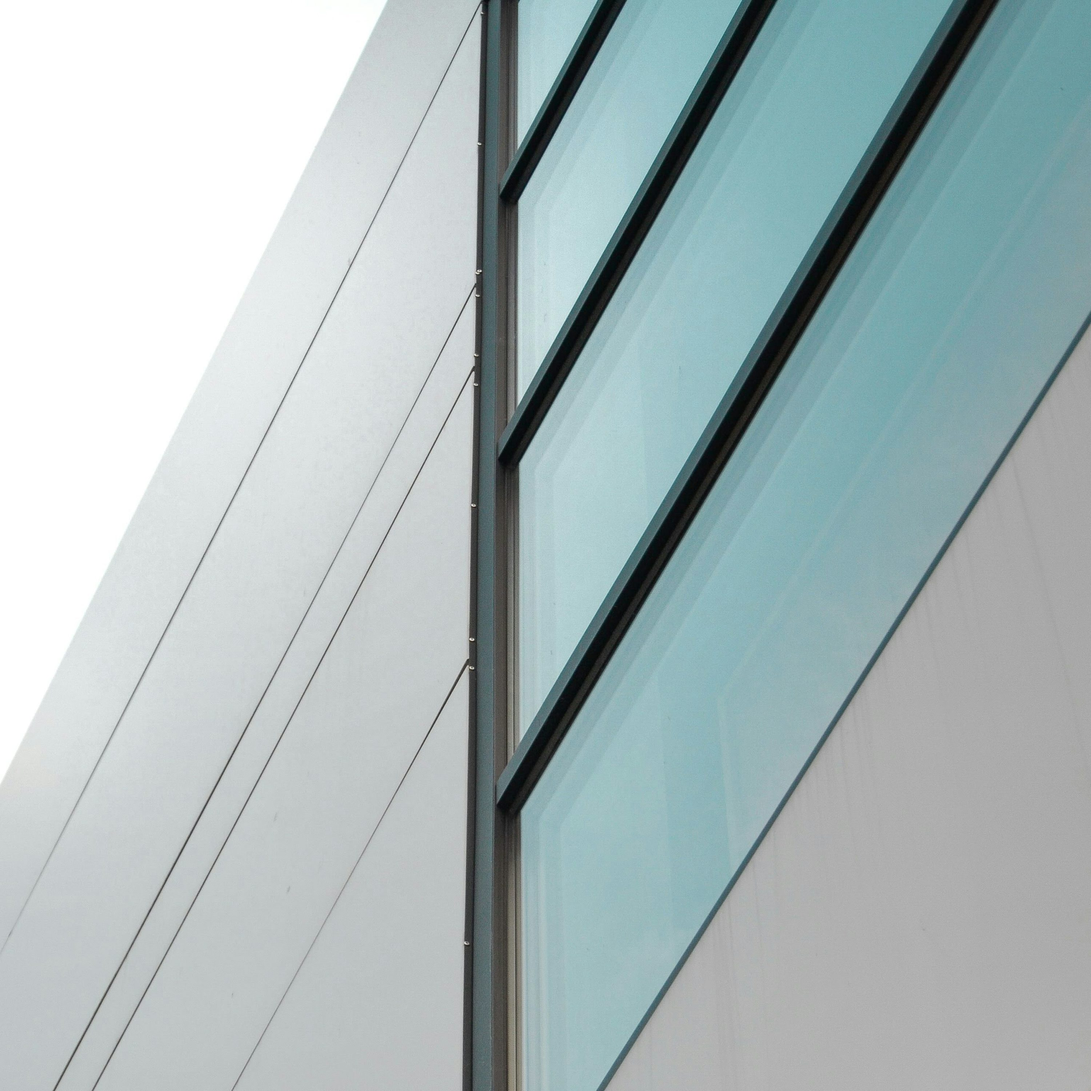glass panel: (521, 0, 1091, 1091), (518, 0, 948, 731), (516, 0, 740, 396), (516, 0, 595, 141)
